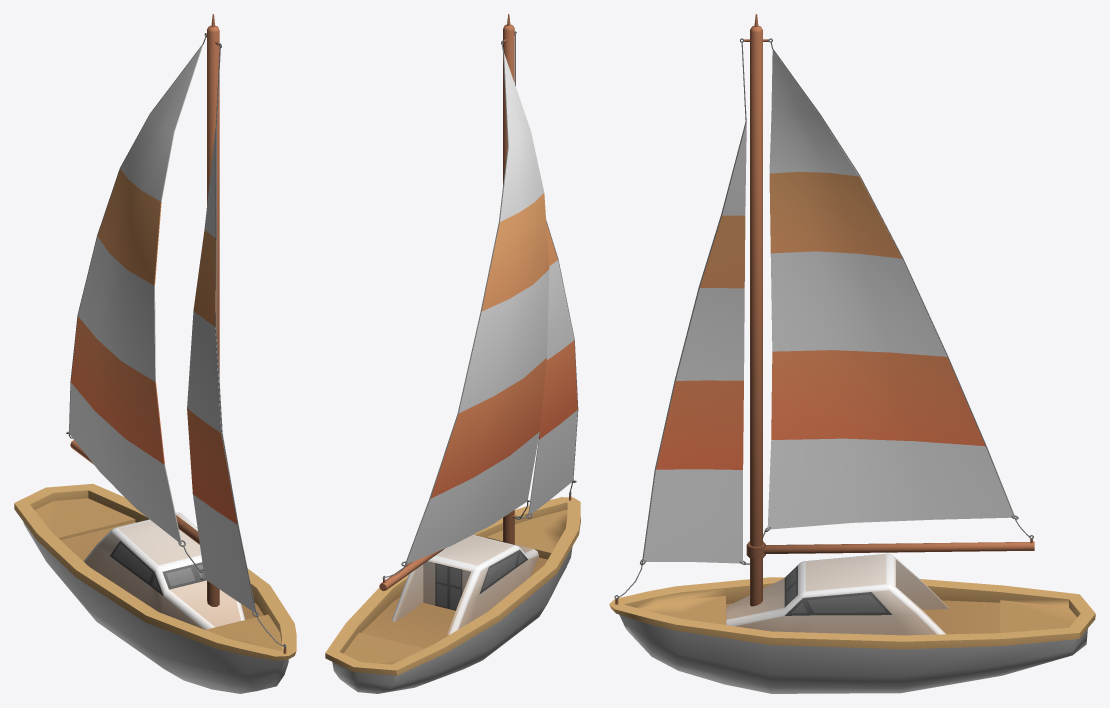
The model's file is sailing yacht.fbx.
3 renders of one model, left to right at view 1: azimuth 30°, elevation 25°; view 2: azimuth 150°, elevation 25°; view 3: azimuth 270°, elevation 25°, orthographic. The views are drawn at different scales.
Parts seen in each view (by area): view 1: sailing_yacht; view 2: sailing_yacht; view 3: sailing_yacht.
Part boxes in pixels (<box>): sailing_yacht: <box>14,14,296,693</box>; sailing_yacht: <box>325,14,580,693</box>; sailing_yacht: <box>609,14,1095,693</box>.
Size of the model in its own units: 385 by 1871 by 1237.
Materials: 1 (1 with a texture image).
